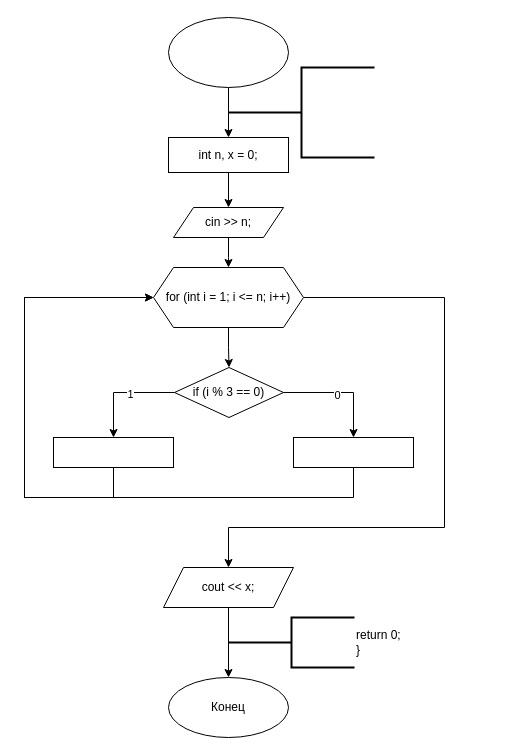
Some shapes in this 511 by 755 pixel diagram are drawn without their labels. The box of each missing label's shape, as (x1, y1, x2, y2) in pixels:
#include <iostream> using namespace std; int main() {: (227, 66, 375, 158)
x = x + i;: (292, 436, 414, 468)
x = x - i;: (52, 436, 174, 468)
Запуск: (168, 16, 288, 88)
